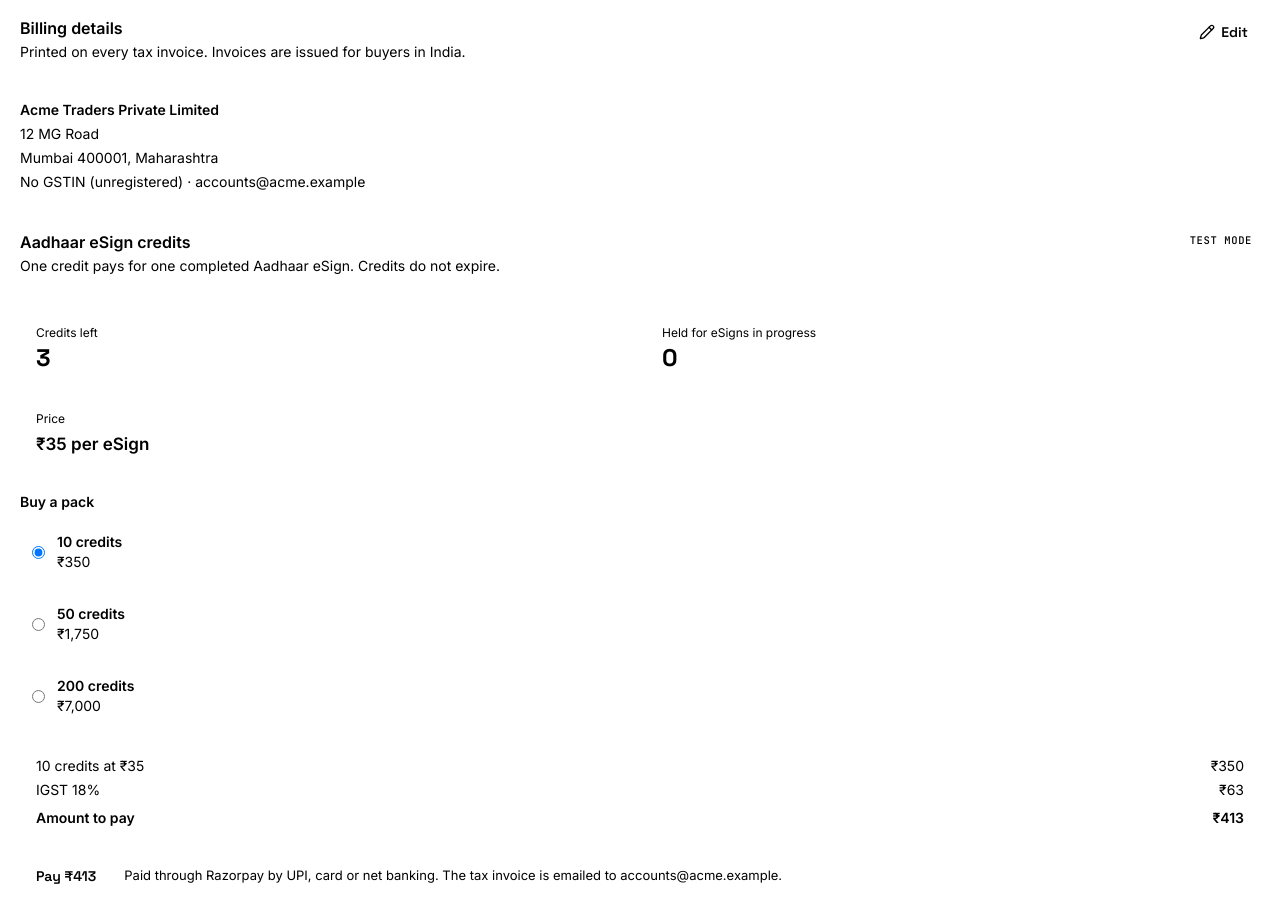
Scenario: BillingPanel › says so when the payment window cannot load
Click the button with test id "buy-credits" at point(66, 876), box [20,856,112,896]
(page scrolled)
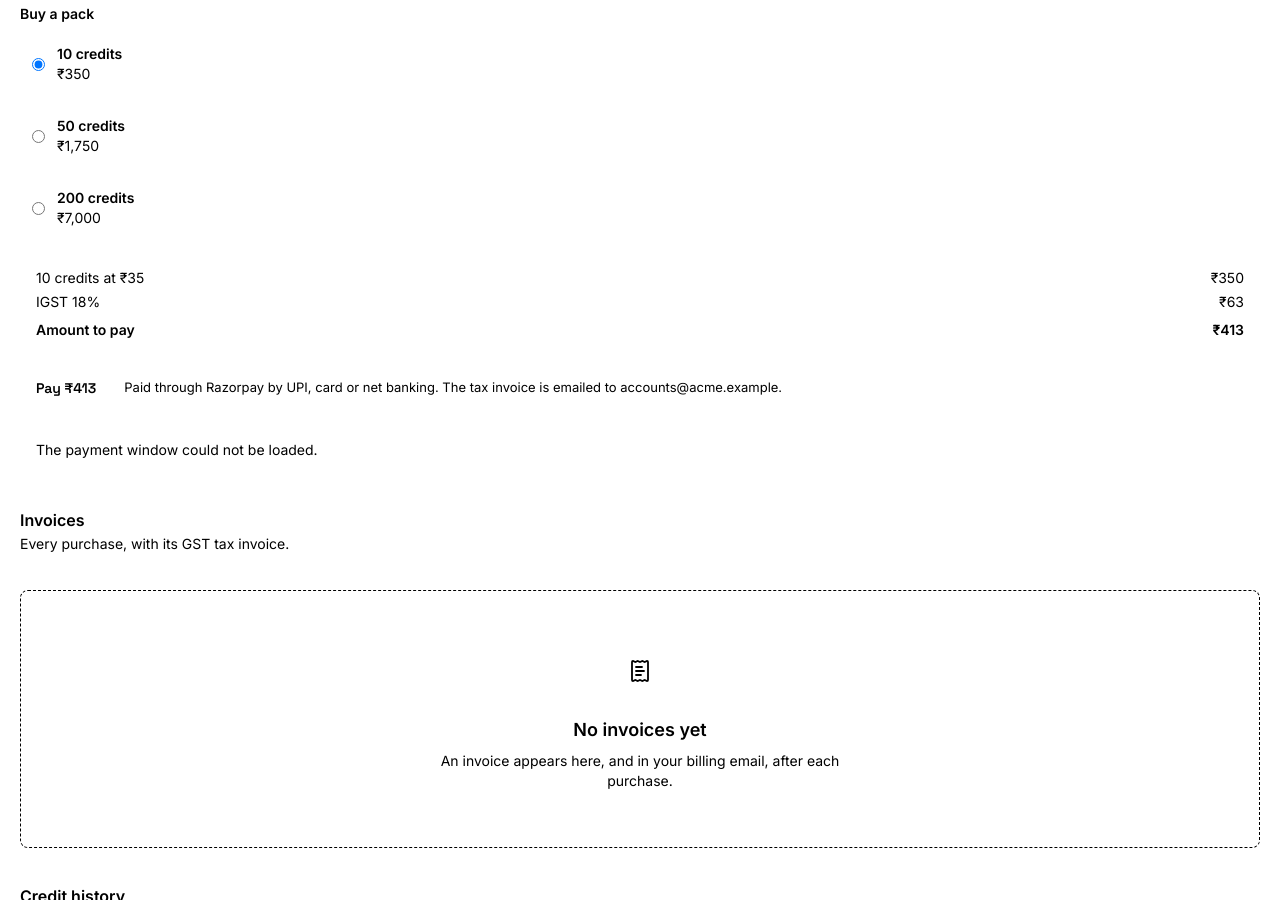
Expected: the message with test id "purchase-failed" shows "could not be loaded", [36,441,318,458]
